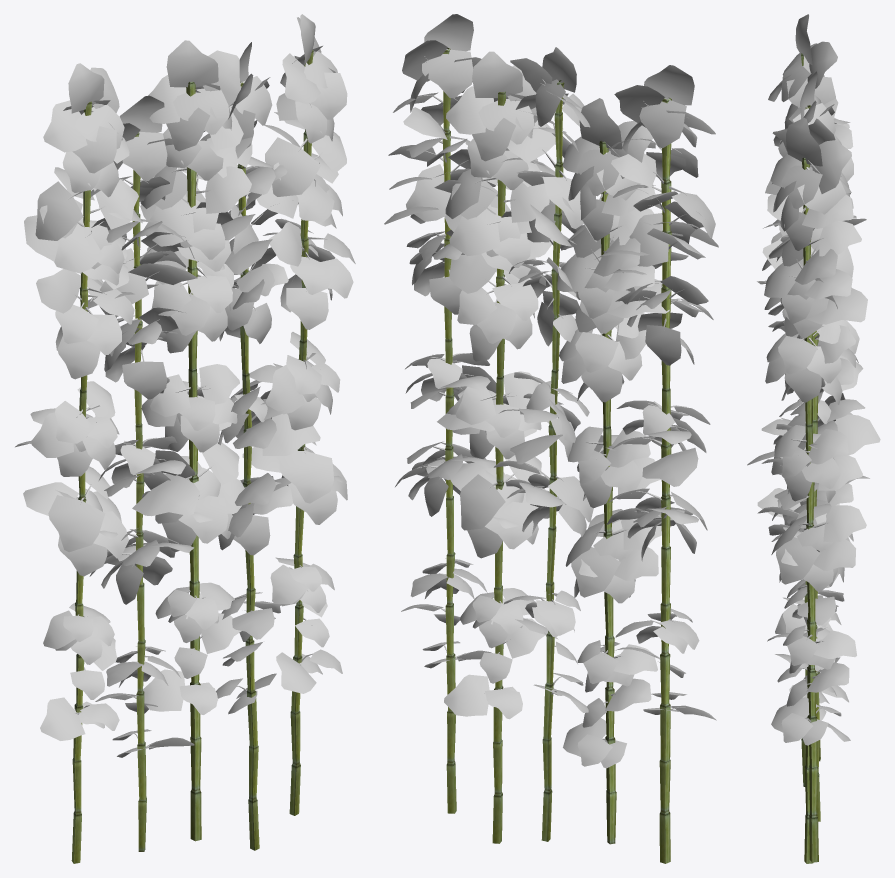
The model's file is D_Tree_002_d.fbx.
3 views of the same model, side by side, from view 1: azimuth 30°, elevation 25°; view 2: azimuth 150°, elevation 25°; view 3: azimuth 270°, elevation 25° (orthographic). The views are drawn at different scales.
Visible parts, largest first — view 1: D_Tree_002_d_leaf, D_Tree_002_d; view 2: D_Tree_002_d_leaf, D_Tree_002_d; view 3: D_Tree_002_d_leaf, D_Tree_002_d.
Boxes of the visible parts, bbox=[...] form: D_Tree_002_d_leaf: bbox=[15, 14, 355, 757]; D_Tree_002_d: bbox=[71, 50, 313, 863]; D_Tree_002_d_leaf: bbox=[384, 14, 718, 768]; D_Tree_002_d: bbox=[442, 48, 671, 863]; D_Tree_002_d_leaf: bbox=[747, 14, 880, 745]; D_Tree_002_d: bbox=[801, 53, 820, 863].
Bounding box in the file's own units: 2.74 × 6.84 × 1.08.
